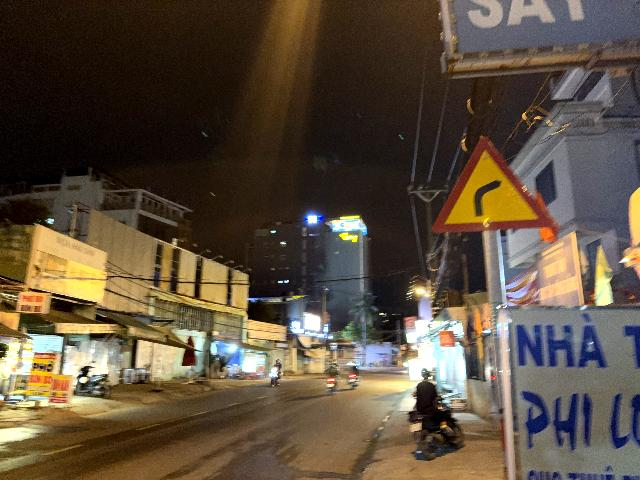cho-ngoat-nguy-hiem-ben-phai: (431, 135, 554, 234)
